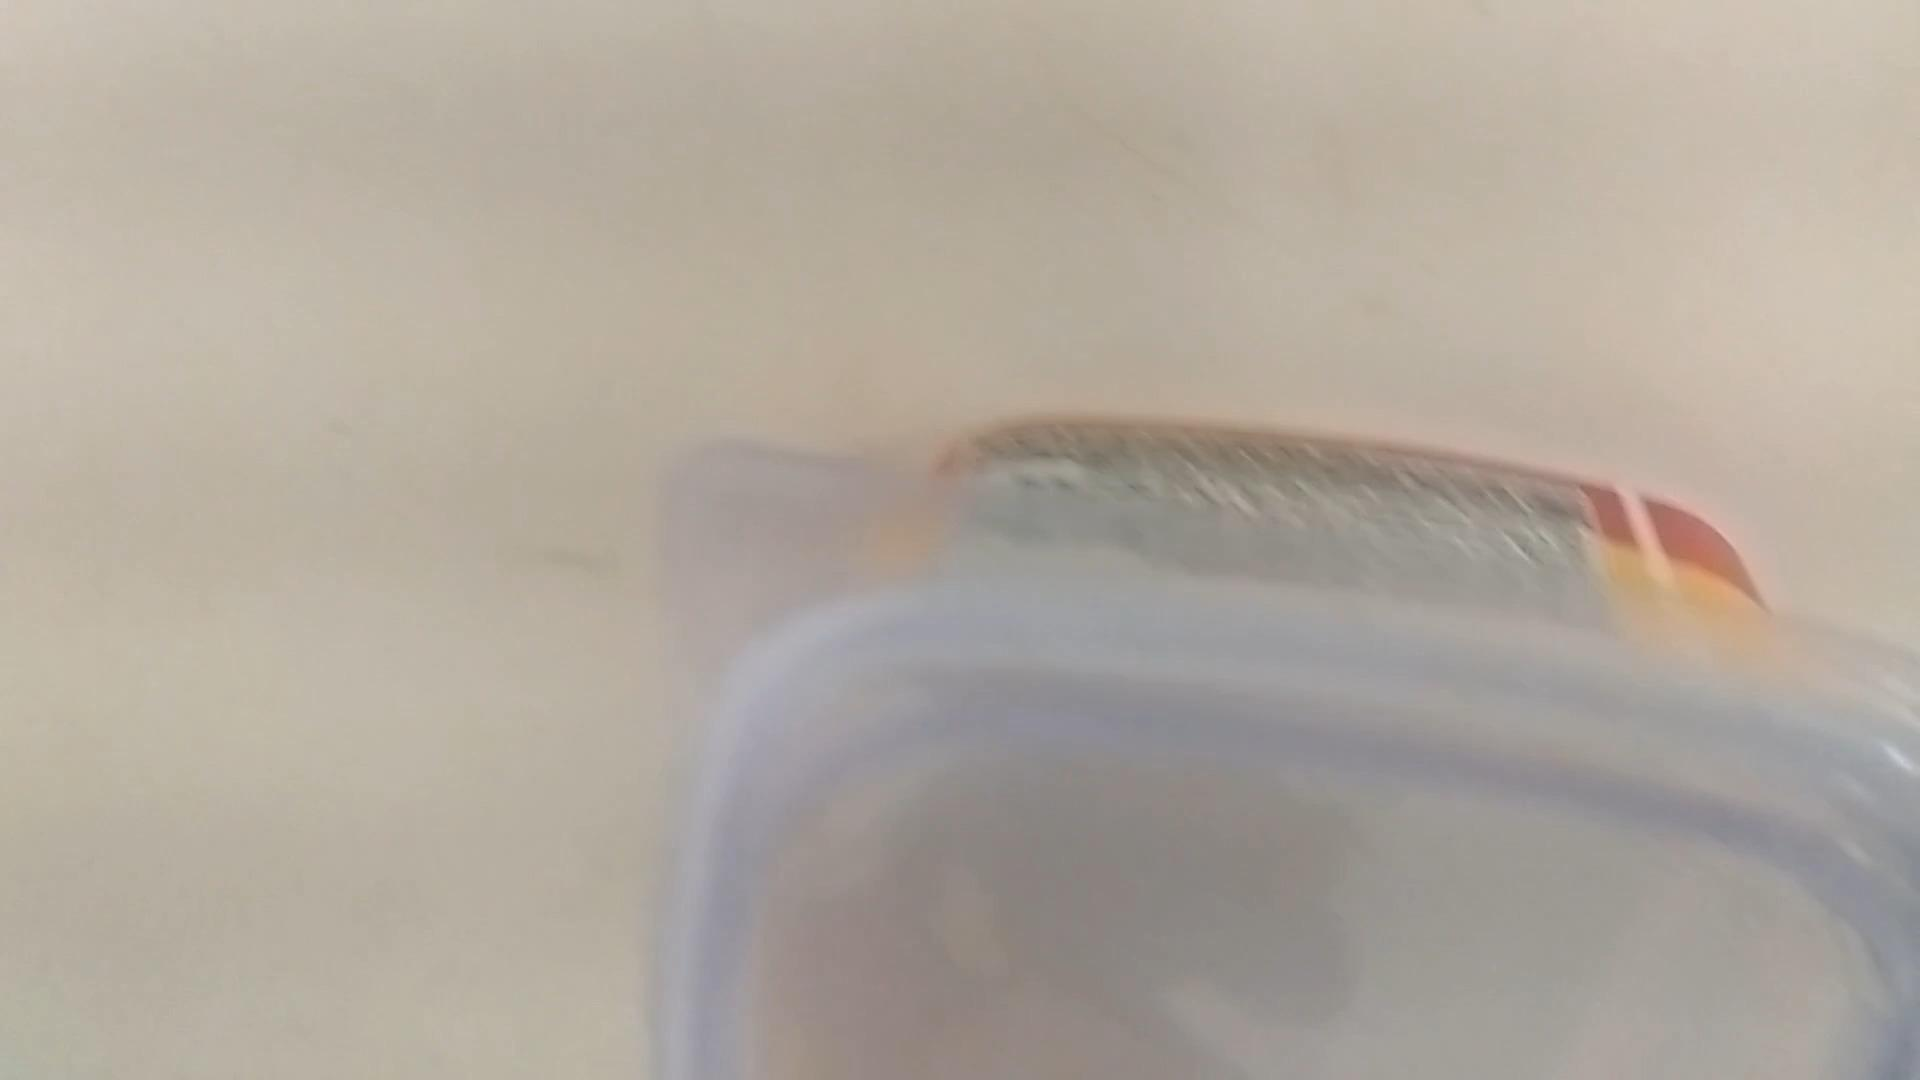butter: (637, 422, 1920, 1072)
